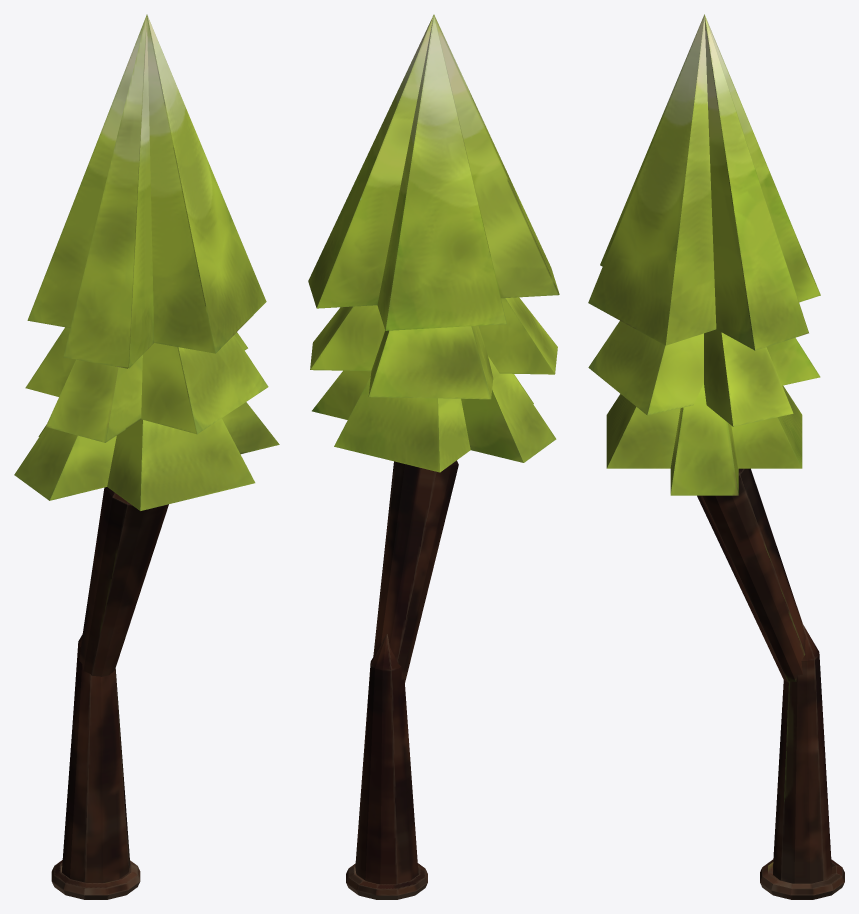
The model's file is treefinal01.obj.
3 renders of one model, left to right at view 1: azimuth 30°, elevation 25°; view 2: azimuth 150°, elevation 25°; view 3: azimuth 270°, elevation 25°, orthographic. The views are drawn at different scales.
Visible parts, largest first — view 1: pyramid, stem_buttom, stem_top, base; view 2: pyramid, stem_buttom, stem_top, base; view 3: pyramid, stem_buttom, stem_top, base.
Part boxes in pixels (box(x1,y1,x2,y2)): pyramid: box(14, 14, 279, 510); stem_buttom: box(61, 634, 130, 882); stem_top: box(79, 487, 168, 676); base: box(51, 860, 140, 899); pyramid: box(308, 14, 559, 472); stem_buttom: box(355, 634, 418, 884); stem_top: box(373, 460, 458, 683); base: box(346, 863, 427, 899); pyramid: box(588, 14, 820, 495); stem_buttom: box(773, 623, 831, 883); stem_top: box(697, 468, 805, 682); base: box(760, 859, 844, 899).
Bounding box in the file's own units: 3.79 × 14.13 × 3.77.
1 material, 1 textured.
